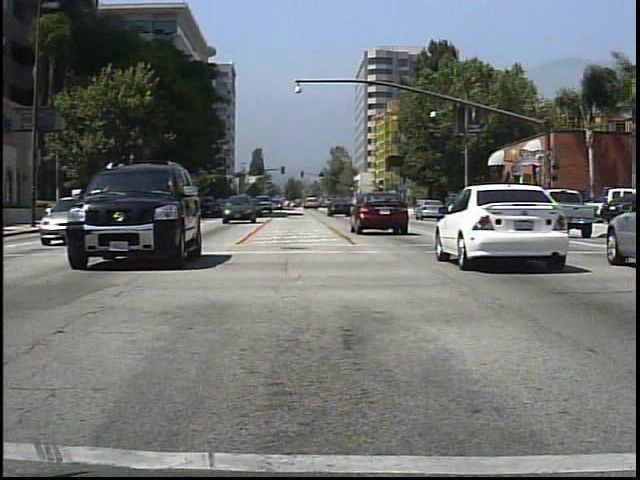person: (545, 191, 563, 228), (500, 188, 517, 224)
